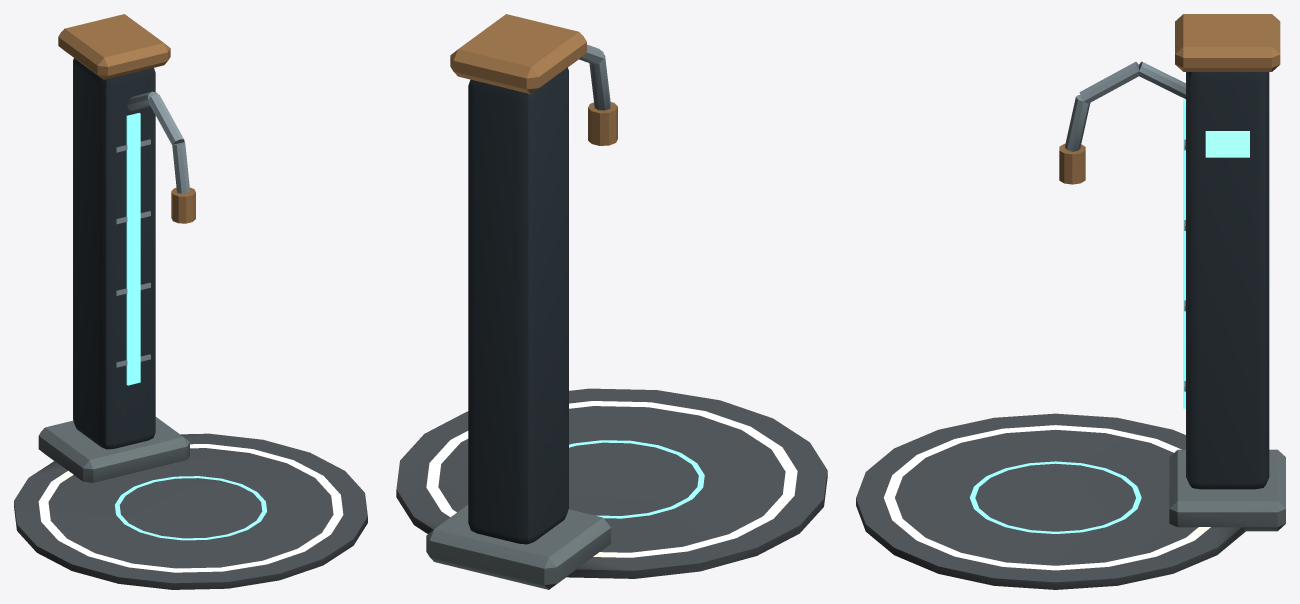
Rendered from charge-post.lod0.glb.
The picture shows the model from 3 angles, left to right: view 1: azimuth 30°, elevation 25°; view 2: azimuth 150°, elevation 25°; view 3: azimuth 270°, elevation 25°; orthographic projection. The views are drawn at different scales.
Parts seen in each view (by area): view 1: structure; view 2: structure; view 3: structure.
Boxes of the visible parts, box(x1,y1,x2,y2) form: structure: box(14, 14, 367, 589); structure: box(396, 14, 827, 589); structure: box(856, 14, 1285, 589).
Bounding box in the file's own units: 1.44 × 1.89 × 1.55.
